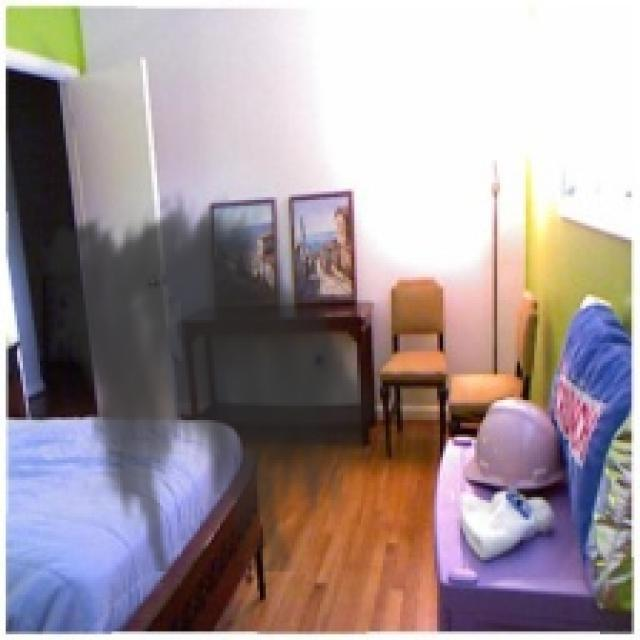Smoke: (26, 186, 388, 572)
